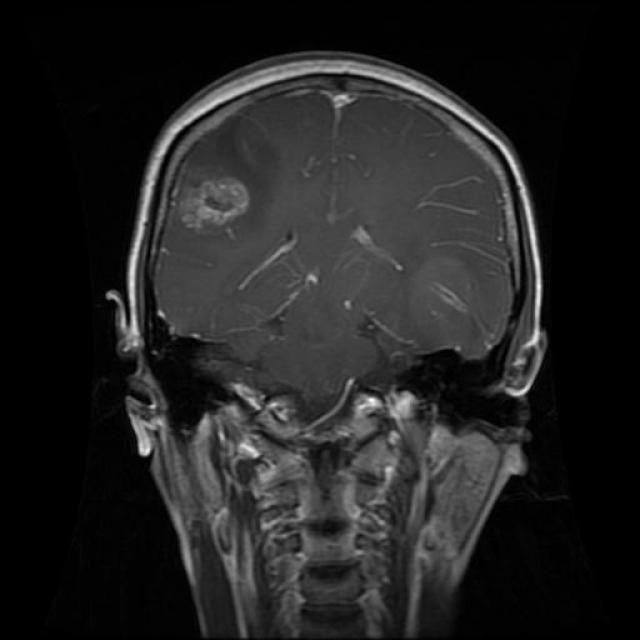Brain-Tumor: (170, 160, 268, 247)
